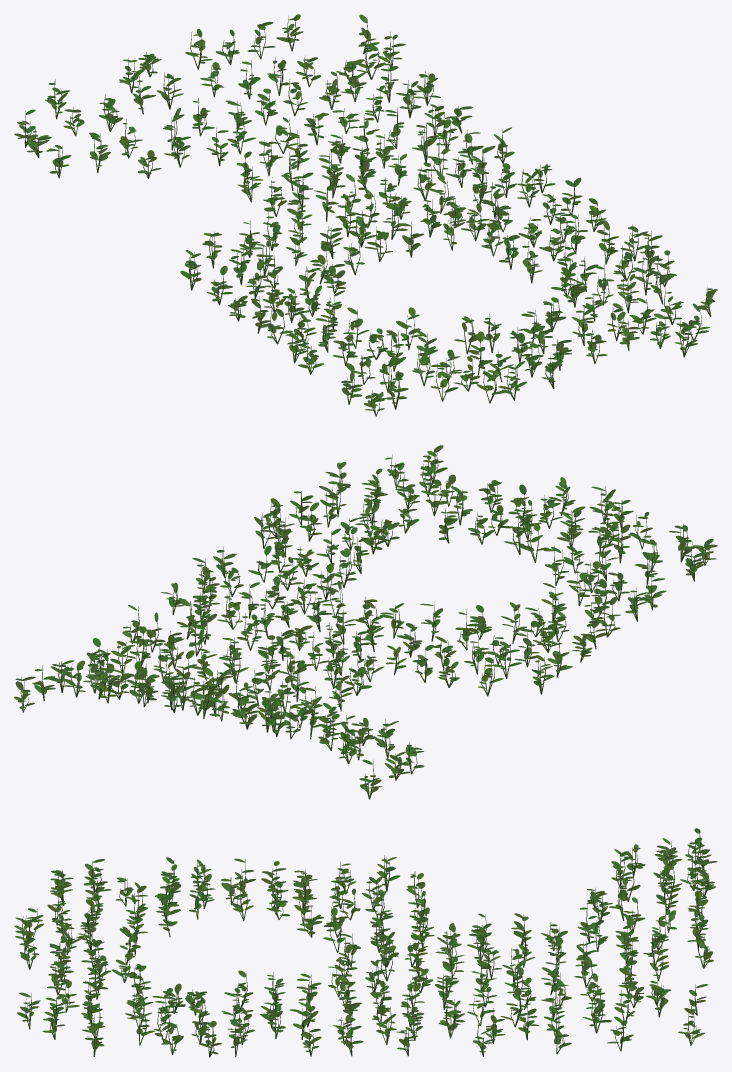
The model's file is MGC_001.glb.
The picture shows the model from 3 angles, top to bottom: view 1: azimuth 30°, elevation 25°; view 2: azimuth 150°, elevation 25°; view 3: azimuth 270°, elevation 25°; orthographic projection. The views are drawn at different scales.
Visible parts, largest first — view 1: moss_ground_cover_mgc_001; view 2: moss_ground_cover_mgc_001; view 3: moss_ground_cover_mgc_001.
Boxes of the visible parts, bbox=[...] form: moss_ground_cover_mgc_001: bbox=[14, 14, 717, 416]; moss_ground_cover_mgc_001: bbox=[14, 445, 717, 799]; moss_ground_cover_mgc_001: bbox=[14, 828, 717, 1057].
Size of the model in its own units: 2.98 by 0.6915 by 4.97.
